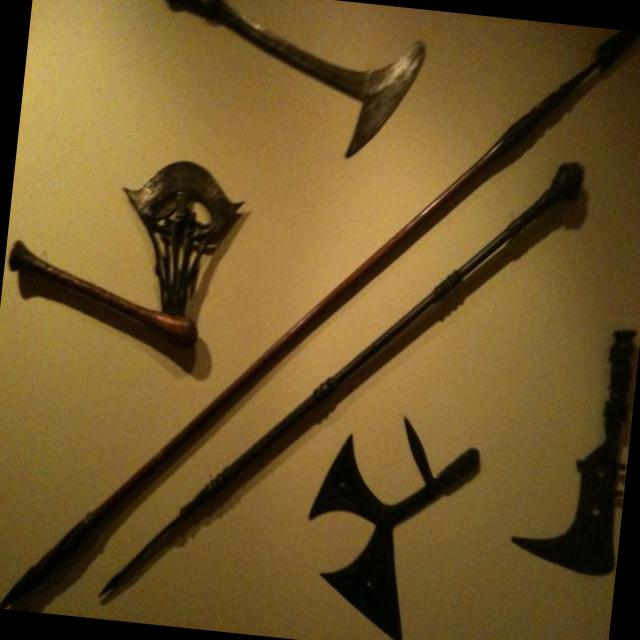Axe: (8, 161, 242, 345), (308, 418, 480, 640)
